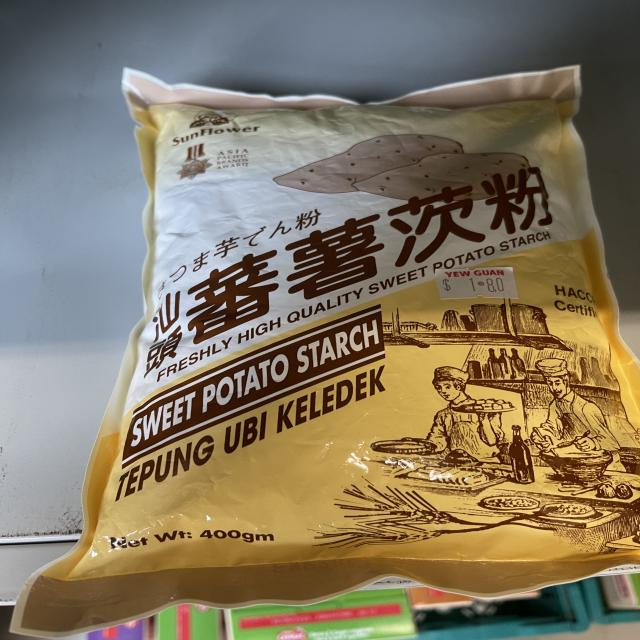object_name: (128, 81, 632, 575)
